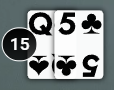5: (57, 11, 78, 36)
q: (27, 11, 54, 37)
